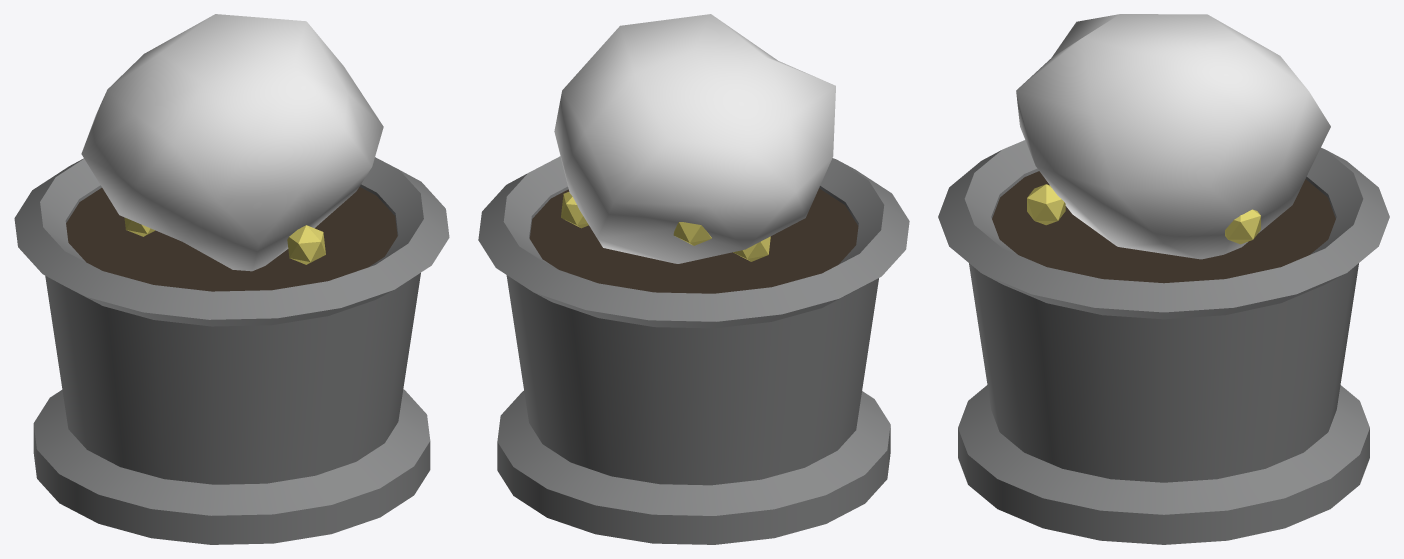
File: city_planter.fbx
3 views of the same model, side by side, from view 1: azimuth 30°, elevation 25°; view 2: azimuth 150°, elevation 25°; view 3: azimuth 270°, elevation 25° (orthographic). The views are drawn at different scales.
Parts seen in each view (by area): view 1: concrete_1, leafhedge_1, soil_1, flower3_1; view 2: concrete_1, leafhedge_1, soil_1, flower3_1; view 3: concrete_1, leafhedge_1, soil_1, flower3_1.
Boxes of the visible parts, x1=… form: concrete_1: x1=14, y1=157, x2=449, y2=544; leafhedge_1: x1=81, y1=14, x2=383, y2=271; soil_1: x1=66, y1=187, x2=397, y2=291; flower3_1: x1=124, y1=217, x2=325, y2=264; concrete_1: x1=478, y1=156, x2=909, y2=544; leafhedge_1: x1=554, y1=14, x2=835, y2=263; soil_1: x1=529, y1=188, x2=858, y2=293; flower3_1: x1=561, y1=192, x2=770, y2=261; concrete_1: x1=938, y1=140, x2=1389, y2=544; leafhedge_1: x1=1016, y1=14, x2=1330, y2=259; soil_1: x1=992, y1=171, x2=1335, y2=283; flower3_1: x1=1027, y1=184, x2=1260, y2=244.
Bounding box in the file's own units: 0.136 × 0.1447 × 0.136.
